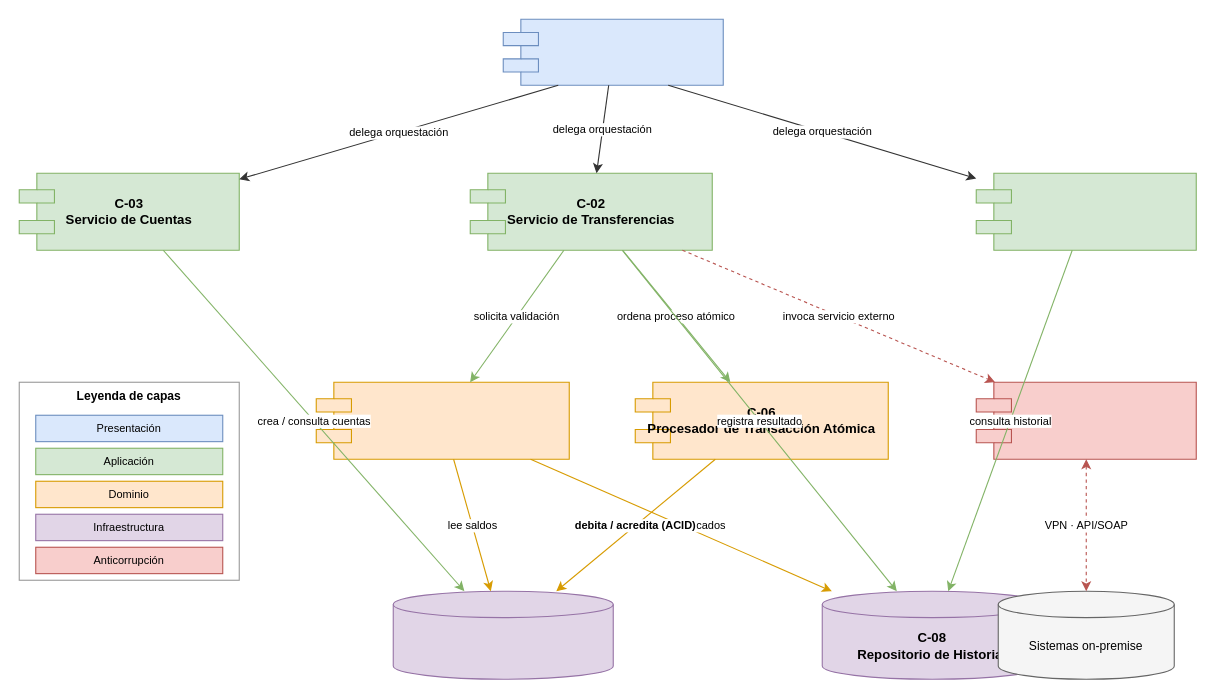
The diagram is 1216 pixels wide and 699 high, and some of its shapes have lost their labels. Each missing label, with the centre of its shape:
C-01 API / Controlador: the point at 612,51
C-04 Servicio de Consulta: the point at 1085,211
C-05 Motor de Reglas / Validaciones: the point at 442,420
C-07 Repositorio de Cuentas: the point at 502,634
C-09 Adaptador On-Premise: the point at 1085,420
